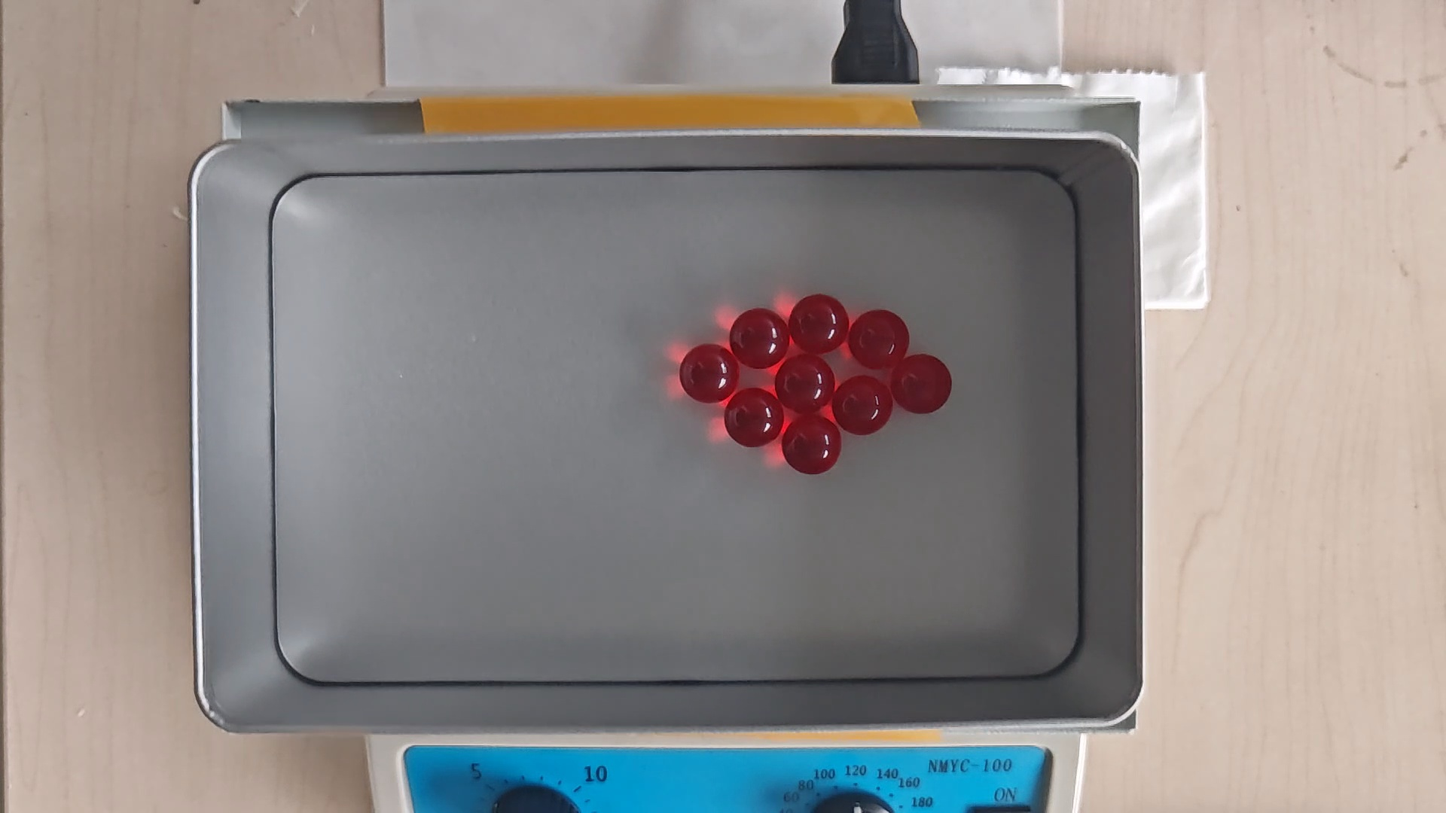ball: (833, 375, 893, 436), (849, 309, 907, 372), (730, 308, 790, 368), (783, 415, 842, 476), (724, 387, 782, 449), (894, 353, 952, 415), (790, 294, 848, 353), (680, 343, 737, 403), (778, 355, 833, 413)
container: (273, 168, 1079, 682)
